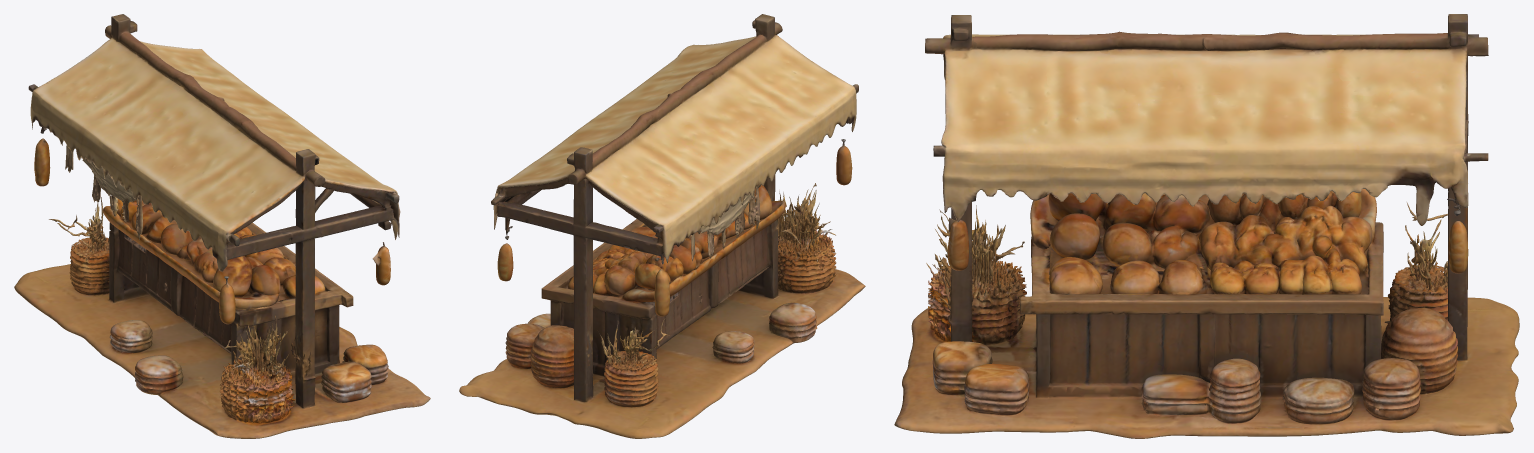
File: a077_ortulu_pazar_tezgahi.glb
The picture shows the model from 3 angles, left to right: view 1: azimuth 30°, elevation 25°; view 2: azimuth 150°, elevation 25°; view 3: azimuth 270°, elevation 25°; orthographic projection. The views are drawn at different scales.
Size of the model in its own units: 1.09 by 1.23 by 2.
Materials: 1 (1 with a texture image).
